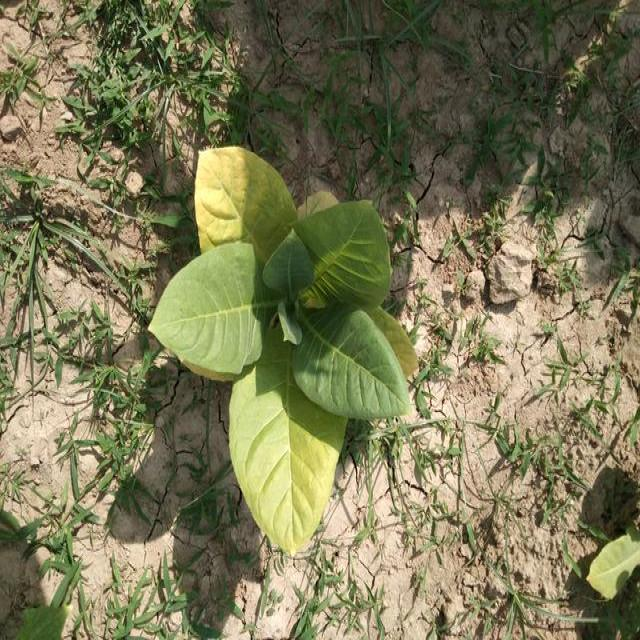crop: (151, 135, 423, 548)
